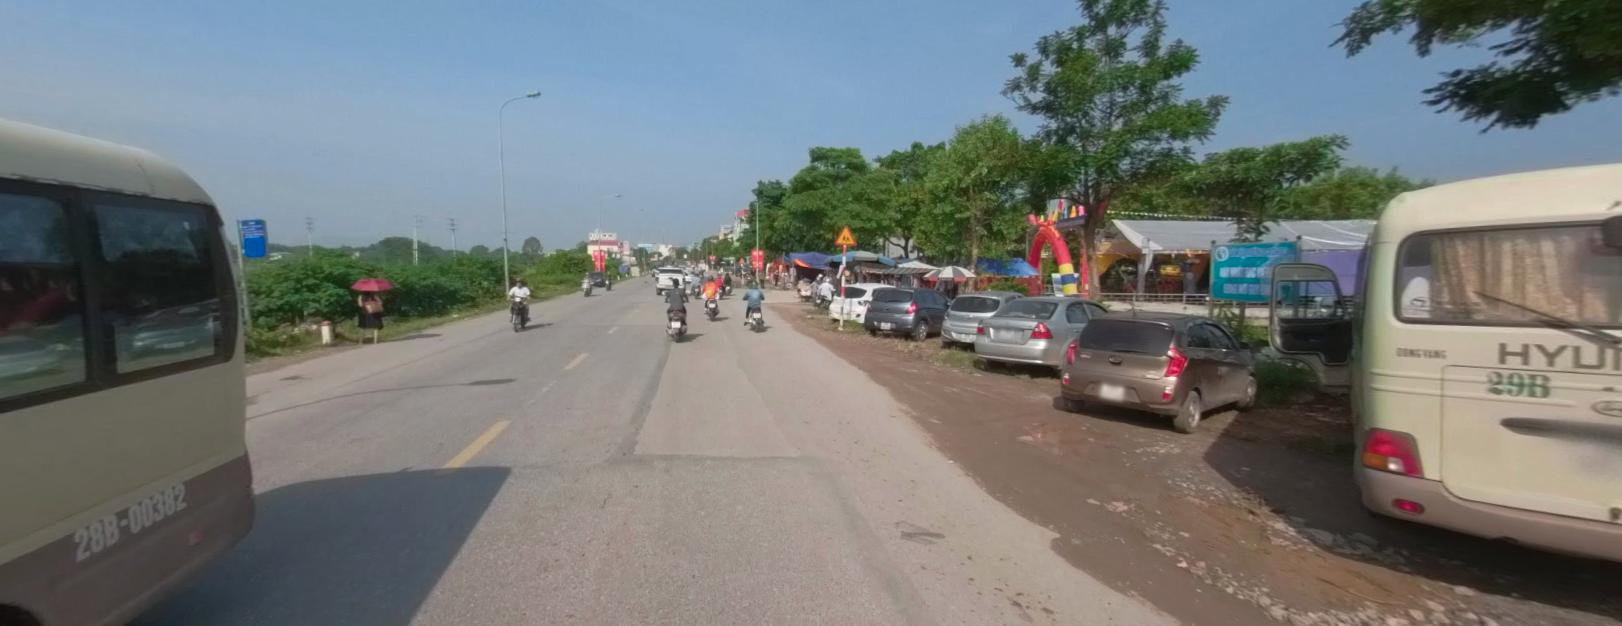Nguy hiem: (834, 223, 857, 244)
